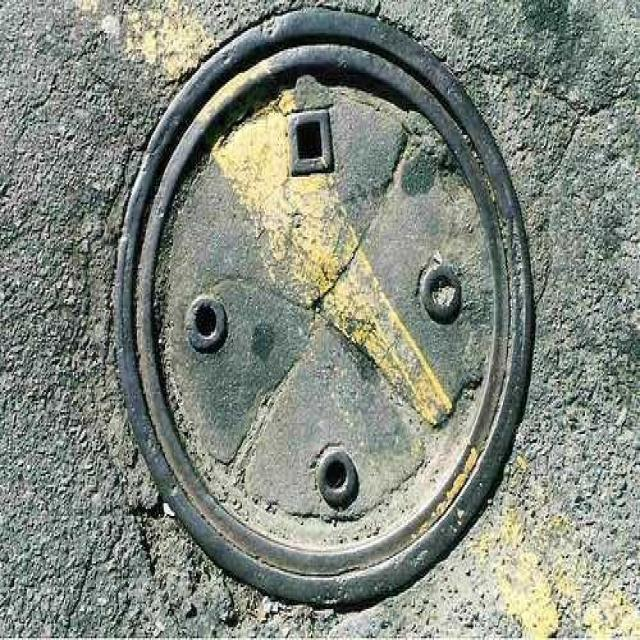manhole: (111, 9, 538, 614)
